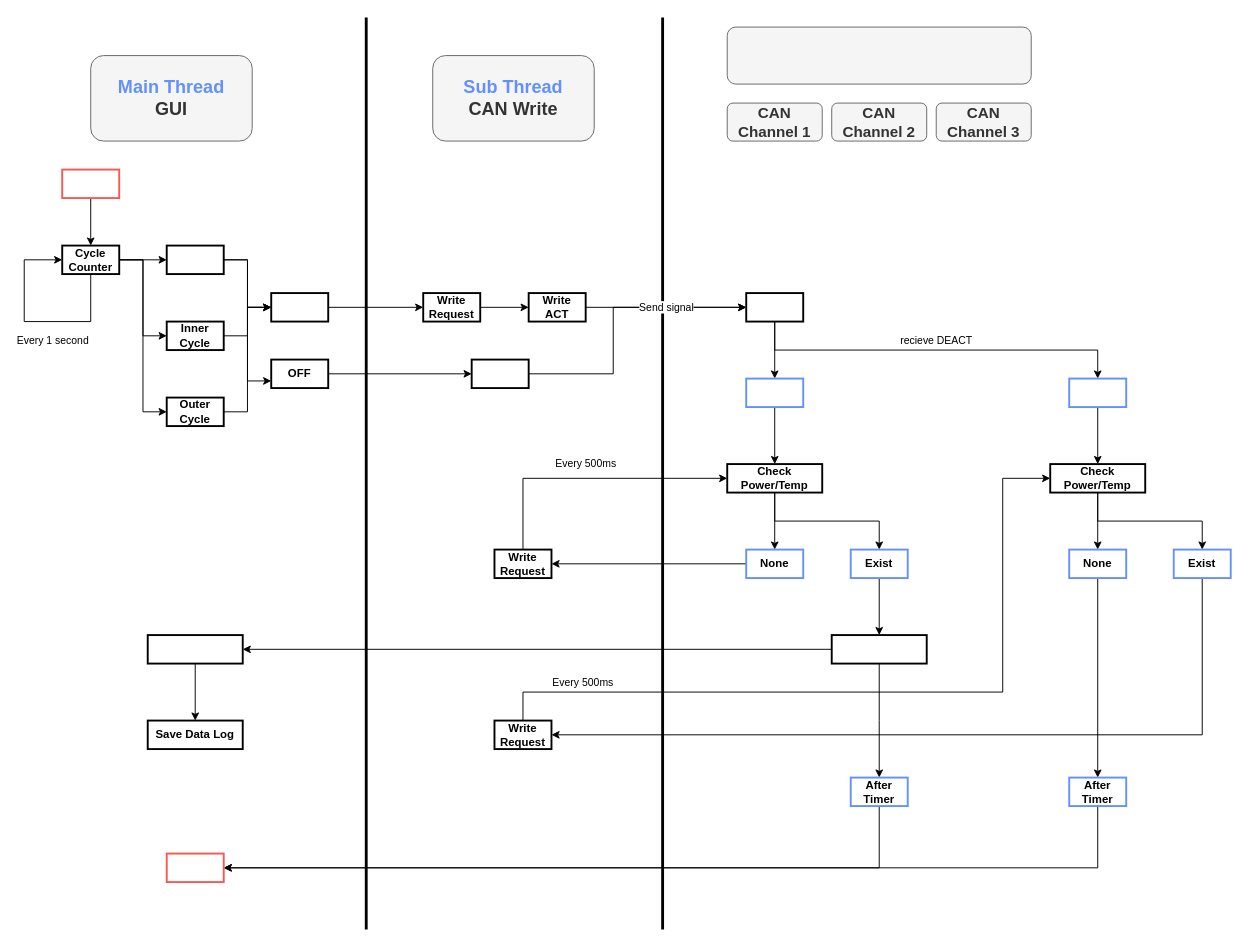
Image size: 1247x948. Some labels were removed from this diagram. Each missing label, with the centre of its shape:
"ACT" belongs at [774,392].
"DEACT" belongs at [1097,392].
"ON" belongs at [299,307].
"PreTest" belongs at [194,259].
"Read CAN" belongs at [774,307].
"Send data to Main GUI" belongs at [878,649].
"Show Data on GUI" belongs at [194,649].
"START" belongs at [90,183].
"STOP" belongs at [194,867].
"Sub Thread CAN Read" belongs at [878,55].
"Write DEACT" belongs at [499,373].
